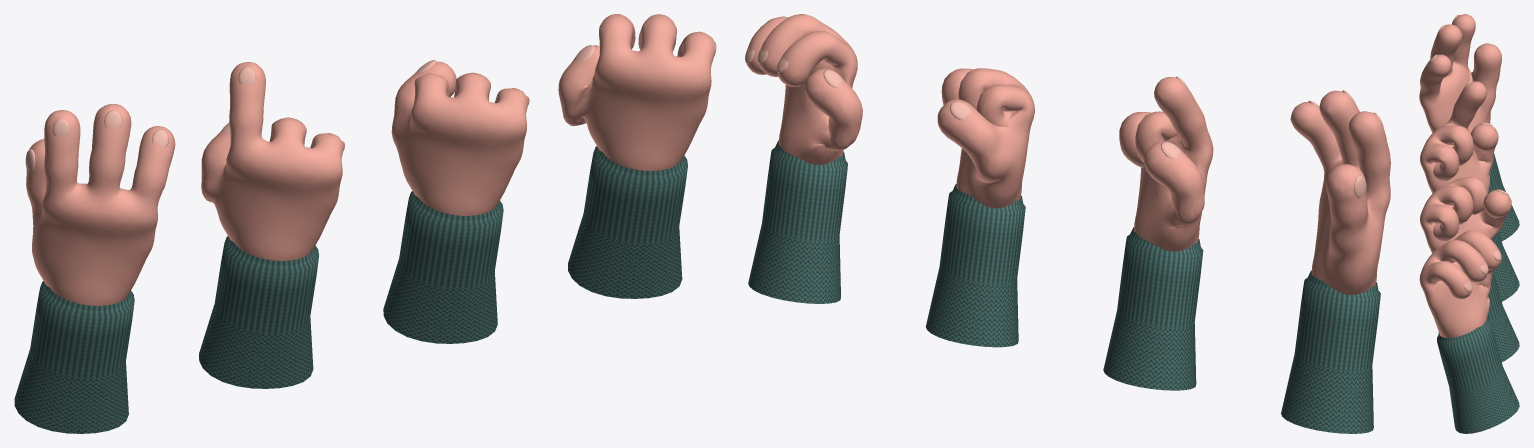
File: lineup.glb
The picture shows the model from 3 angles, left to right: view 1: azimuth 30°, elevation 25°; view 2: azimuth 150°, elevation 25°; view 3: azimuth 270°, elevation 25°; orthographic projection. The views are drawn at different scales.
Visible parts, largest first — view 1: relaxed_Hand, grip_Hand, point_Hand, fist_Hand, point_Sleeve_teal, fist_Sleeve_teal, relaxed_Sleeve_teal, grip_Sleeve_teal, relaxed_Nails; view 2: relaxed_Hand, fist_Sleeve_teal, relaxed_Sleeve_teal, point_Sleeve_teal, grip_Sleeve_teal, grip_Hand, point_Hand, fist_Hand, grip_Nails; view 3: grip_Sleeve_teal, grip_Hand, relaxed_Hand, point_Hand, fist_Hand, fist_Sleeve_teal, point_Sleeve_teal, relaxed_Sleeve_teal, grip_Nails.
Boxes of the visible parts, x1,y1,x2,y2 form: relaxed_Hand: (26, 104, 175, 305); grip_Hand: (558, 14, 716, 170); point_Hand: (201, 62, 345, 260); fist_Hand: (391, 61, 529, 215); point_Sleeve_teal: (199, 236, 318, 388); fist_Sleeve_teal: (383, 191, 503, 343); relaxed_Sleeve_teal: (14, 281, 134, 433); grip_Sleeve_teal: (568, 146, 687, 298); relaxed_Nails: (25, 110, 168, 172); relaxed_Hand: (1290, 90, 1390, 294); fist_Sleeve_teal: (925, 184, 1025, 347); relaxed_Sleeve_teal: (1281, 270, 1380, 433); point_Sleeve_teal: (1103, 227, 1203, 390); grip_Sleeve_teal: (748, 140, 847, 303); grip_Hand: (746, 14, 862, 164); point_Hand: (1119, 77, 1213, 251); fist_Hand: (937, 68, 1034, 208); grip_Nails: (745, 47, 843, 88); grip_Sleeve_teal: (1437, 318, 1519, 433); grip_Hand: (1419, 230, 1501, 337); relaxed_Hand: (1419, 14, 1501, 132); point_Hand: (1420, 81, 1498, 193); fist_Hand: (1420, 176, 1511, 253); fist_Sleeve_teal: (1487, 272, 1519, 362); point_Sleeve_teal: (1492, 232, 1519, 301); relaxed_Sleeve_teal: (1488, 153, 1519, 241); grip_Nails: (1464, 249, 1501, 292).
Bounding box in the file's own units: 0.6512 × 0.3059 × 0.1261.
4 materials, 2 textured.
